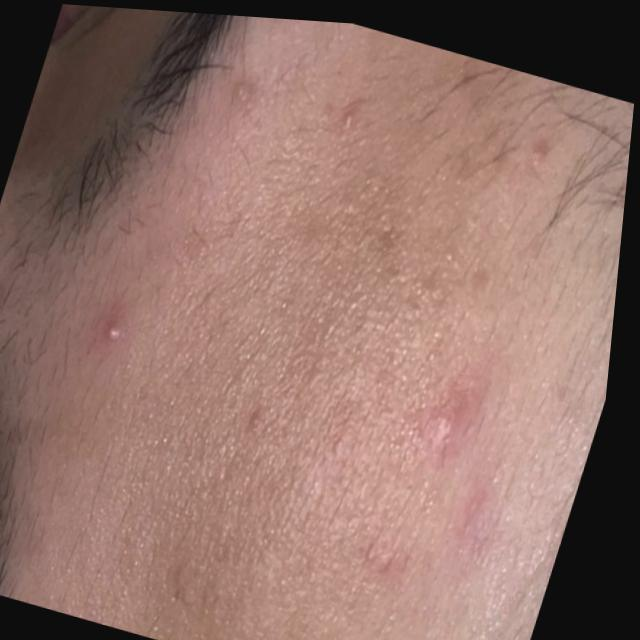papule: (356, 328, 529, 606)
pustule: (321, 89, 368, 131), (99, 314, 132, 356)
